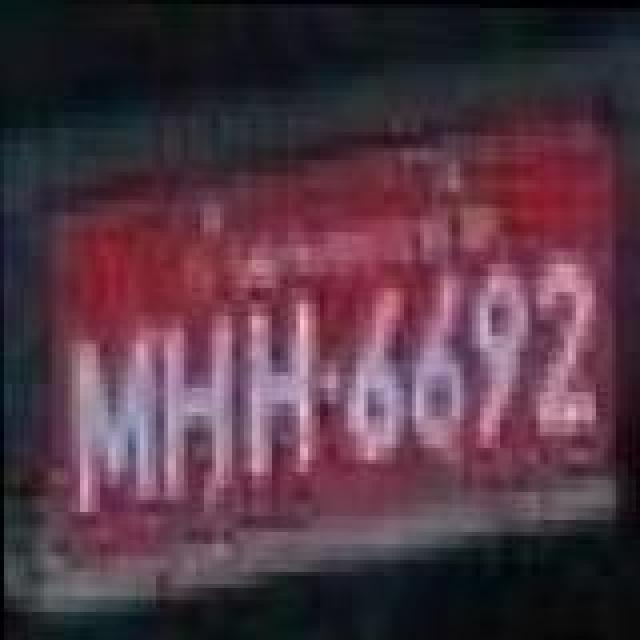2: (532, 250, 600, 434)
6: (342, 280, 406, 464), (402, 274, 466, 458)
9: (466, 262, 530, 446)
H: (160, 310, 236, 510), (244, 296, 320, 496)
M: (66, 322, 162, 522)
